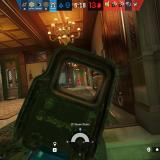Character: (76, 78, 82, 88)
Friend_label: (114, 91, 125, 98), (74, 91, 84, 97)
